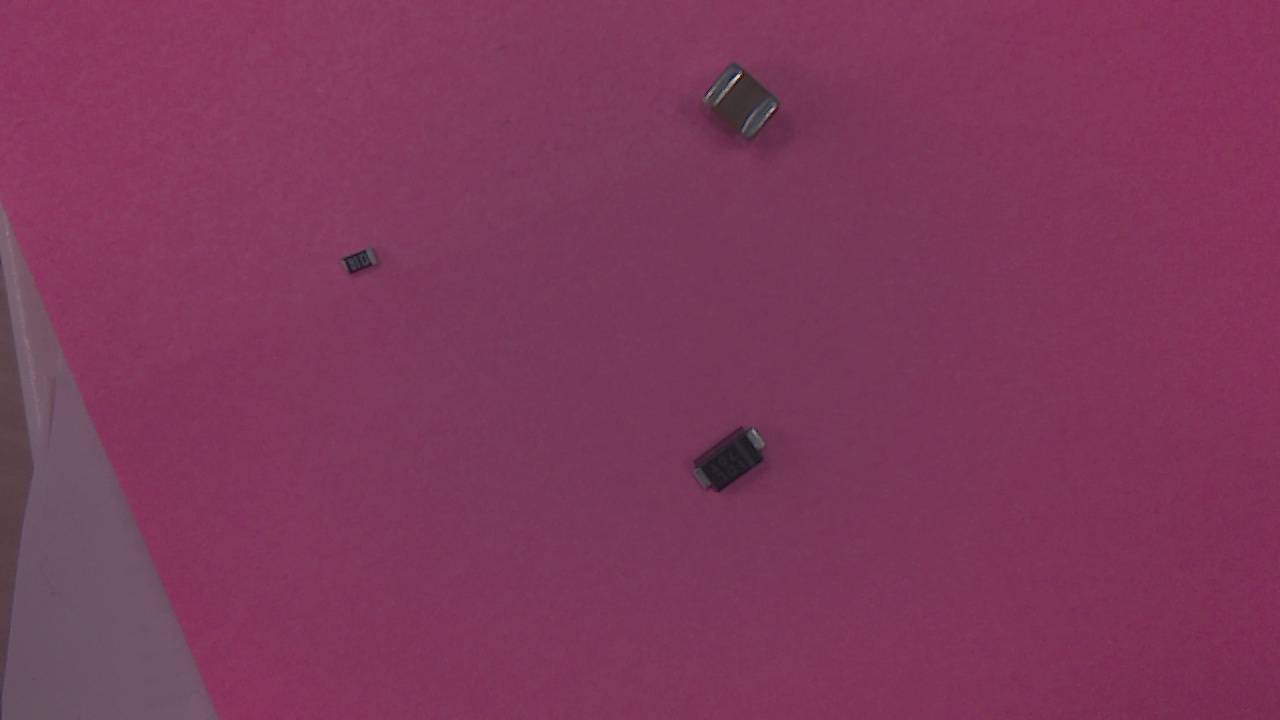Condensator: (706, 70, 789, 148)
Diode: (694, 430, 775, 499)
Resistor: (346, 245, 390, 285)
